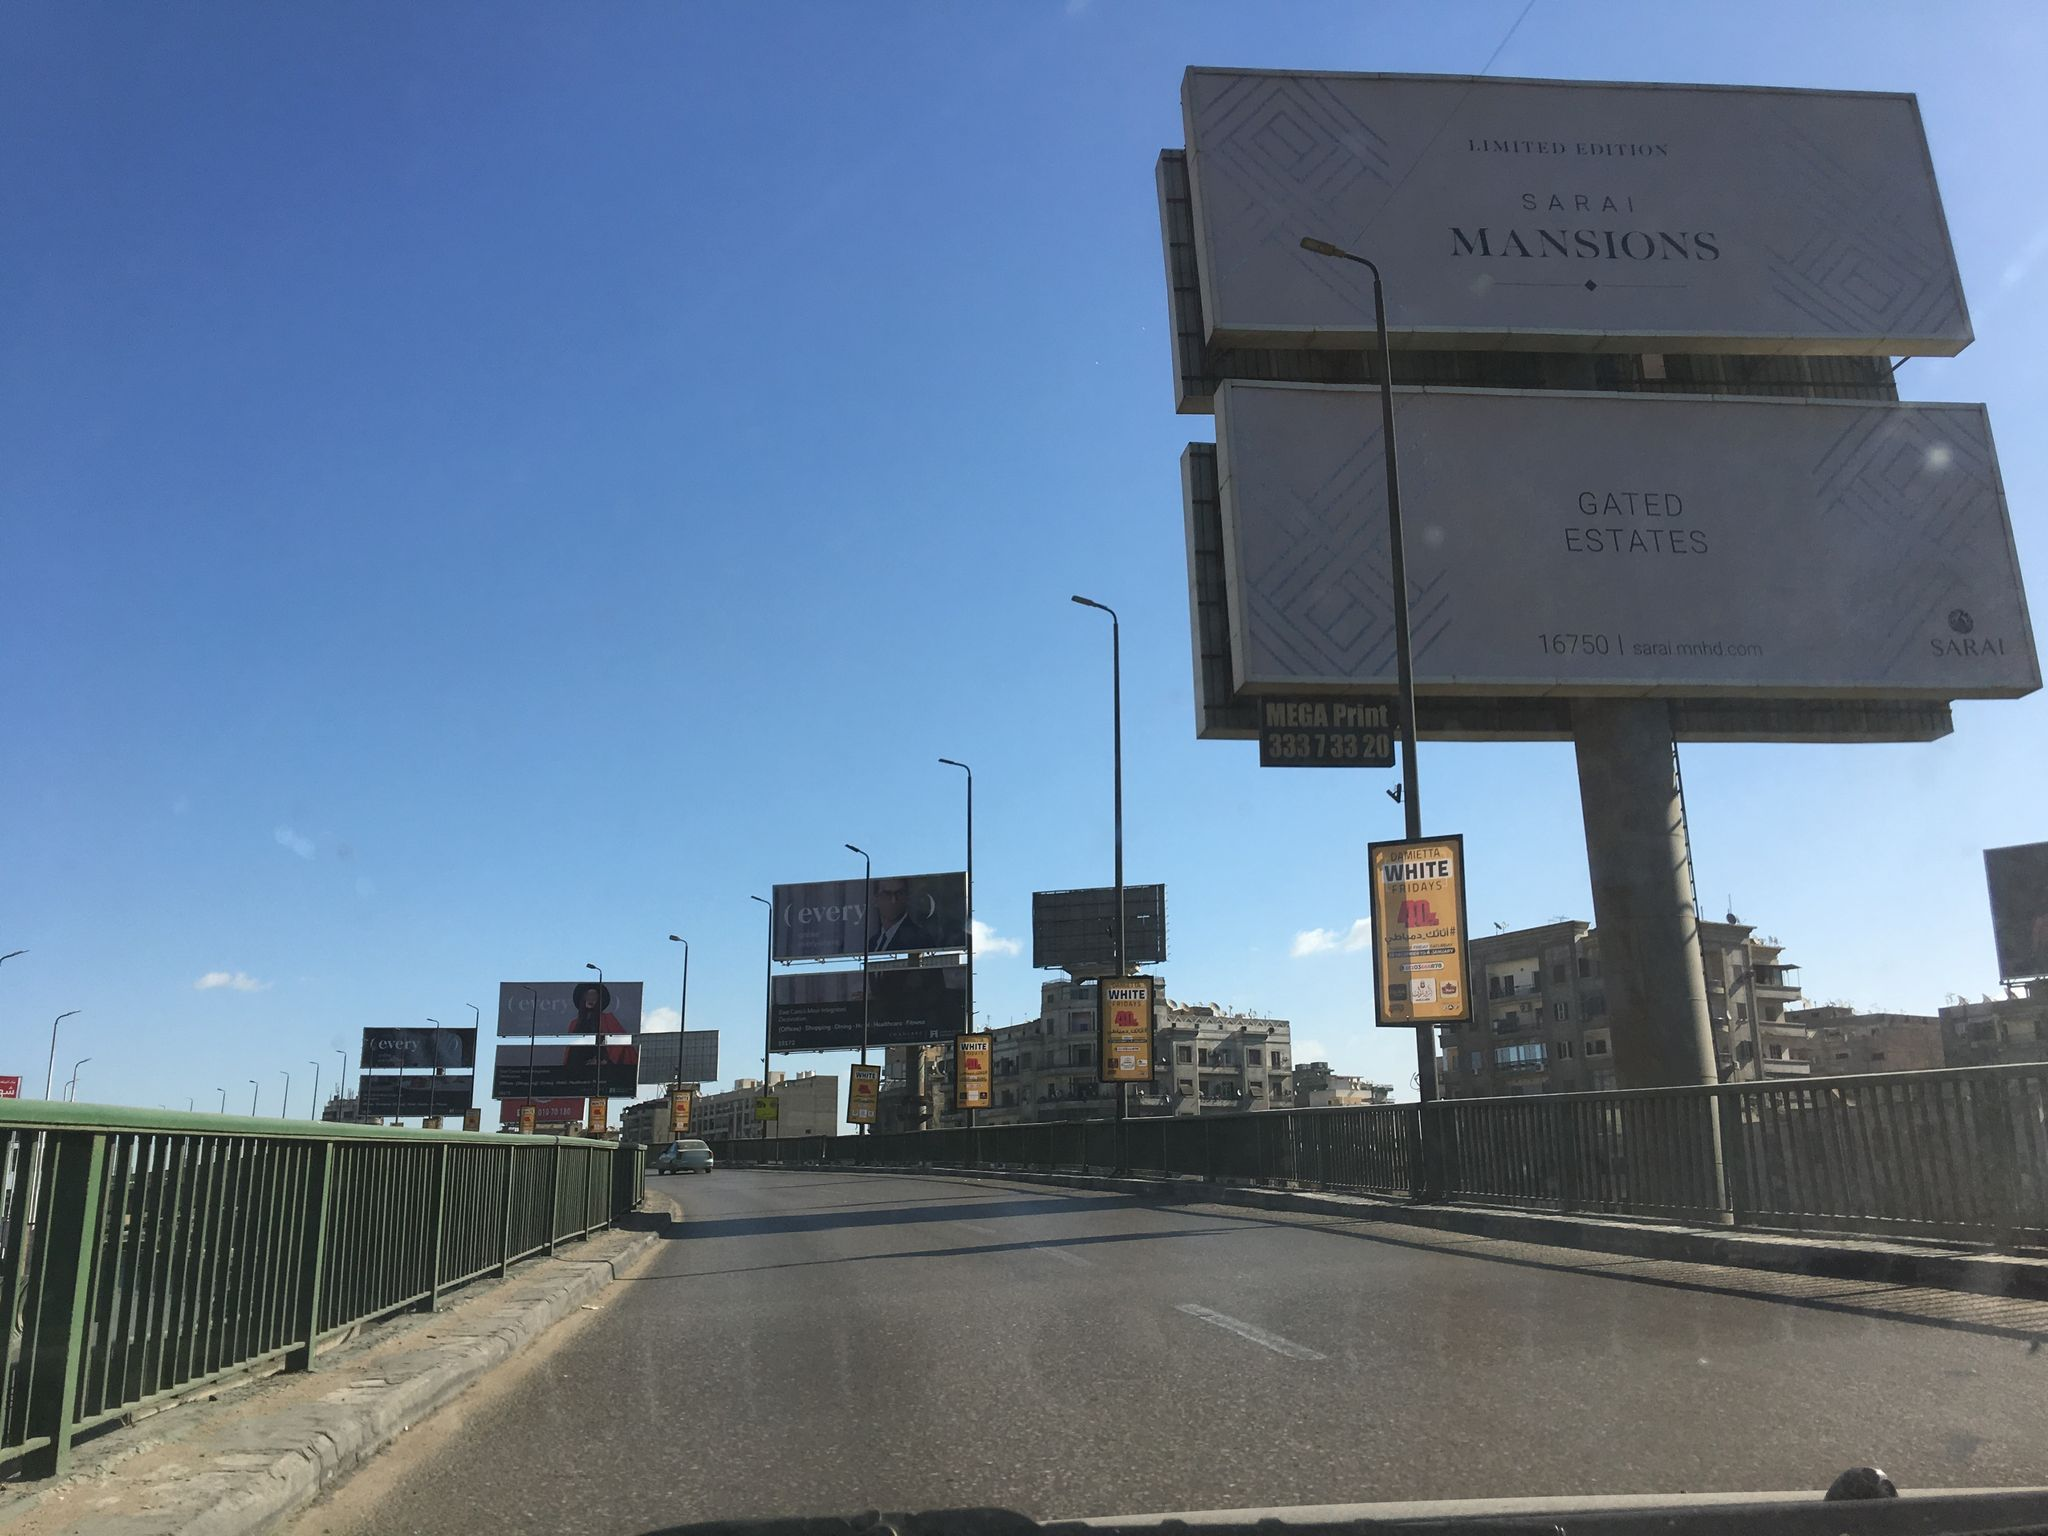car: (658, 1139, 714, 1173)
